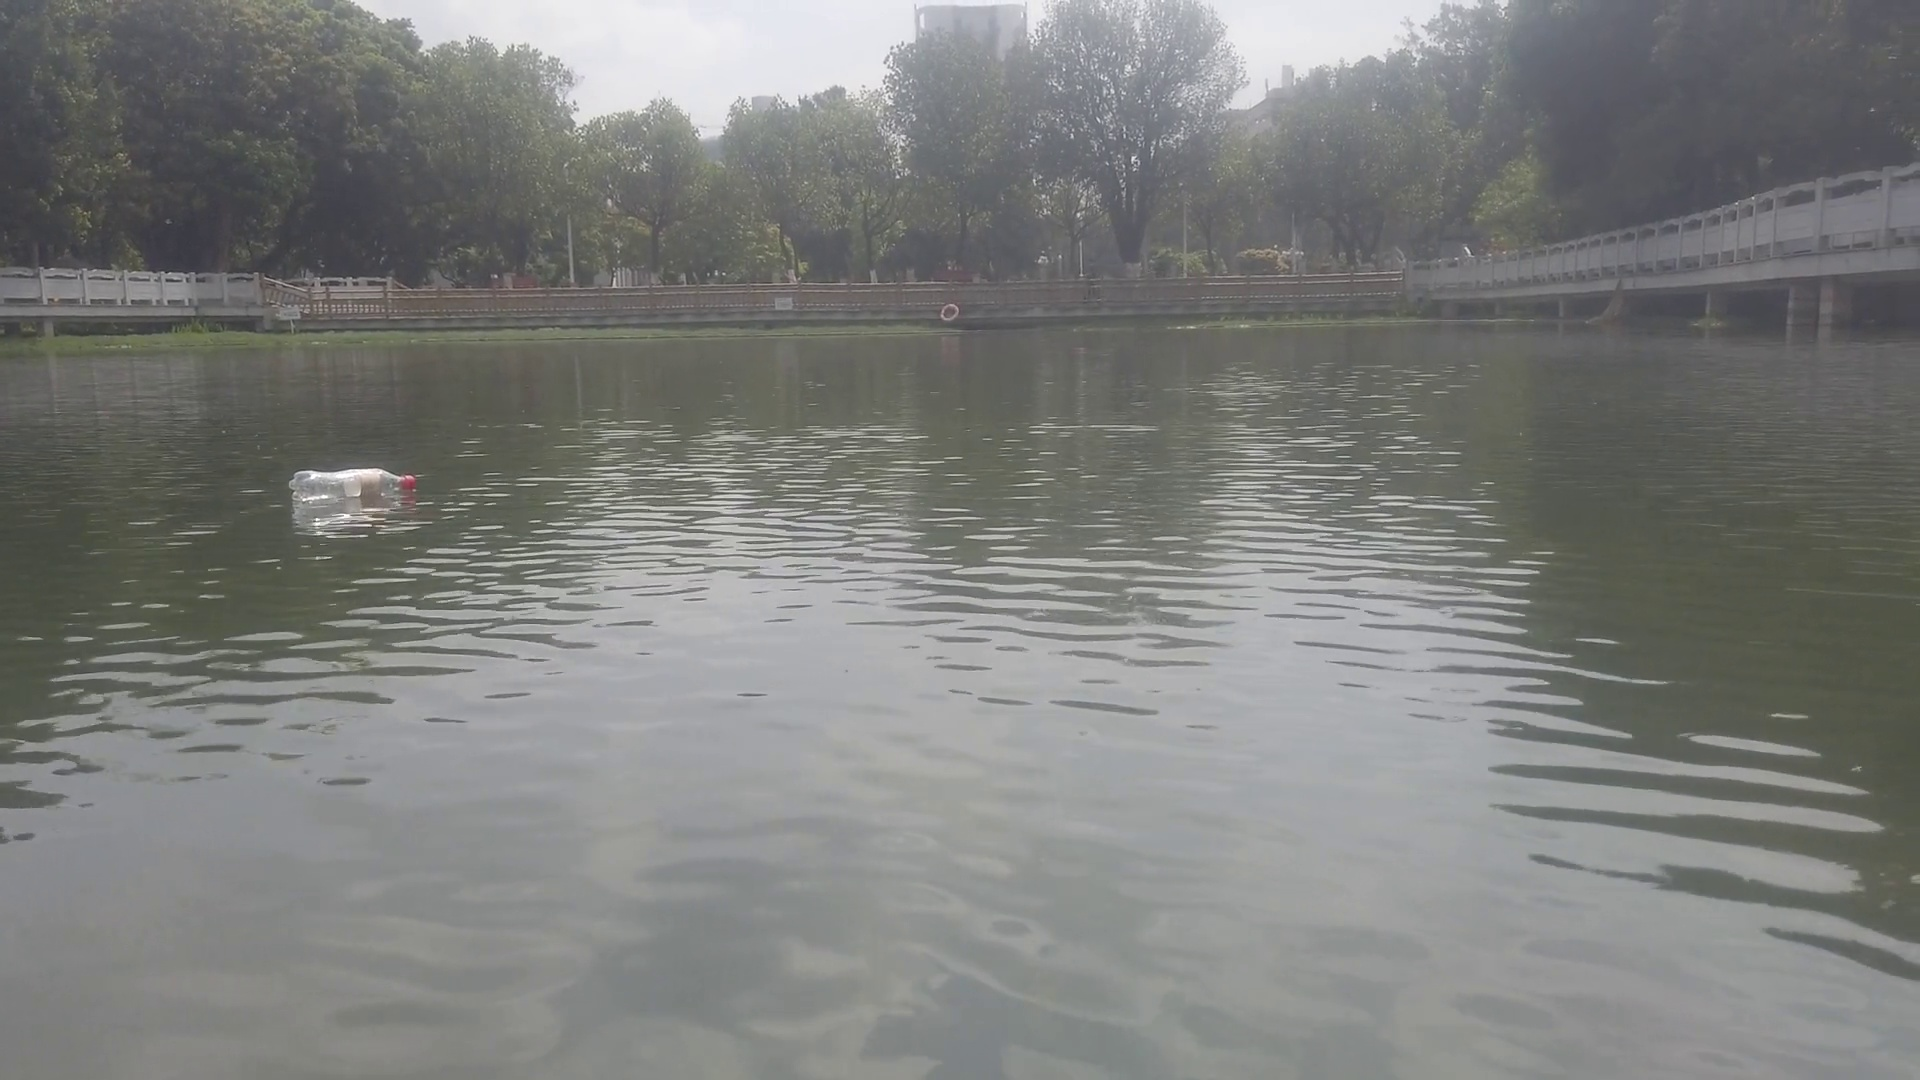bottle: (285, 465, 426, 502)
